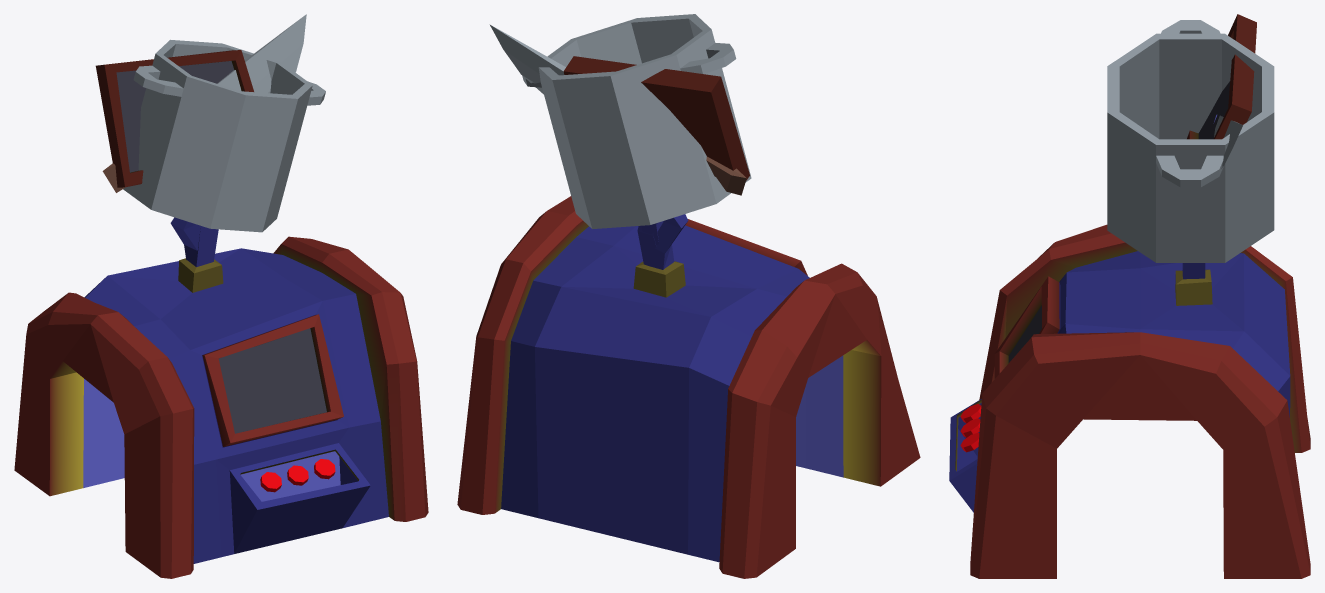
Rendered from machine_slicer.fbx.
3 views of the same model, side by side, from view 1: azimuth 30°, elevation 25°; view 2: azimuth 150°, elevation 25°; view 3: azimuth 270°, elevation 25° (orthographic). The views are drawn at different scales.
Visible parts, largest first — view 1: machine_body, machine_head_cooker, machine_body_with_screen, machine_head_screen, machine_head_slicer; view 2: machine_body, machine_head_cooker, machine_head_screen, machine_head_slicer, machine_body_with_screen; view 3: machine_body, machine_head_cooker, machine_head_screen, machine_body_with_screen, machine_head_slicer.
Boxes of the visible parts, left/top/right/bottom form: machine_body: left=14, top=236, right=428, bottom=578; machine_head_cooker: left=123, top=39, right=325, bottom=260; machine_body_with_screen: left=190, top=301, right=348, bottom=459; machine_head_screen: left=95, top=50, right=253, bottom=187; machine_head_slicer: left=102, top=14, right=306, bottom=267; machine_body: left=457, top=196, right=920, bottom=578; machine_head_cooker: left=522, top=14, right=751, bottom=269; machine_head_screen: left=563, top=56, right=749, bottom=180; machine_head_slicer: left=489, top=24, right=746, bottom=268; machine_body_with_screen: left=685, top=219, right=807, bottom=275; machine_body: left=949, top=224, right=1310, bottom=578; machine_head_cooker: left=1107, top=20, right=1274, bottom=262; machine_head_screen: left=1187, top=14, right=1256, bottom=139; machine_body_with_screen: left=994, top=273, right=1066, bottom=378; machine_head_slicer: left=1182, top=114, right=1242, bottom=276.
Bounding box in the file's own units: 202 × 297 × 212.
